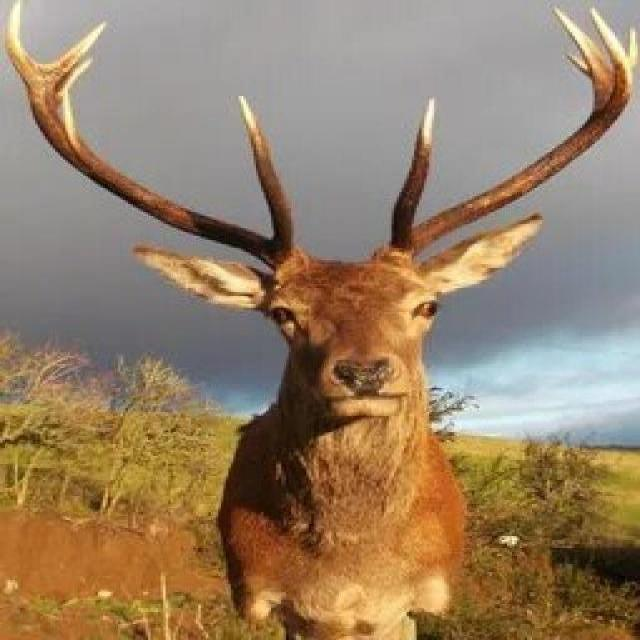deer: (90, 93, 586, 598)
